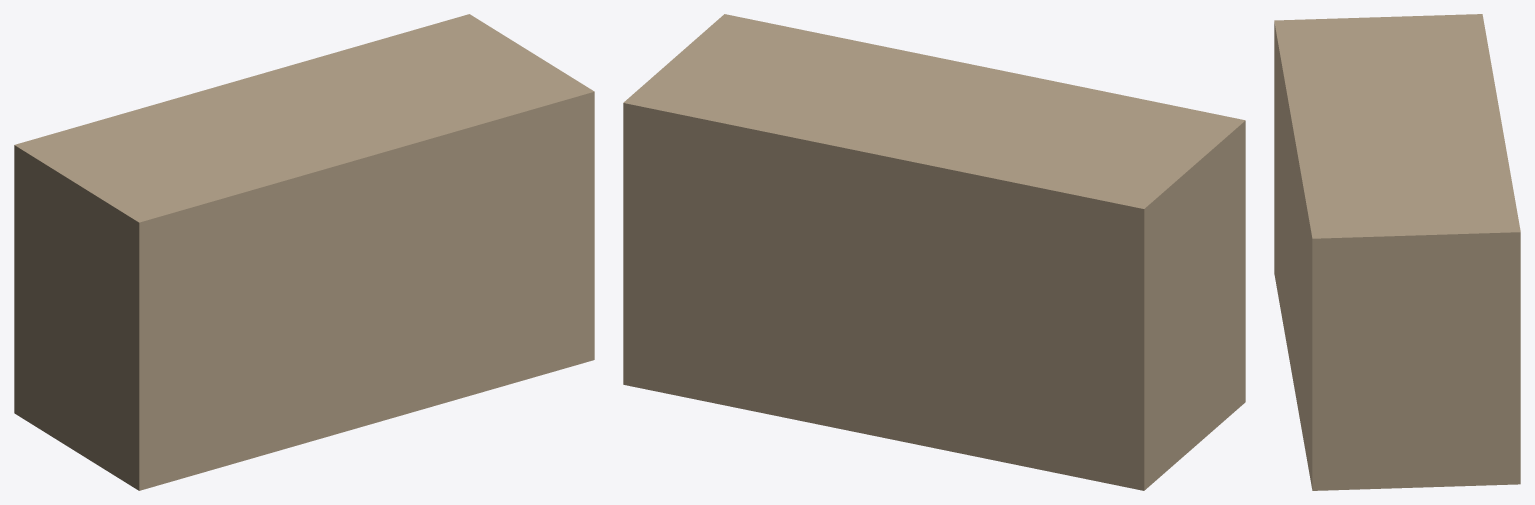
File: bld_108400915.dae
3 views of the same model, side by side, from view 1: azimuth 30°, elevation 25°; view 2: azimuth 150°, elevation 25°; view 3: azimuth 270°, elevation 25° (orthographic). The views are drawn at different scales.
Visible parts, largest first — view 1: bld_108400915; view 2: bld_108400915; view 3: bld_108400915.
Part boxes in pixels (box(x1,y1,x2,y2)): bld_108400915: box(14, 14, 594, 490); bld_108400915: box(623, 14, 1245, 490); bld_108400915: box(1274, 14, 1520, 490).
Size of the model in its own units: 15.29 by 7.09 by 8.
